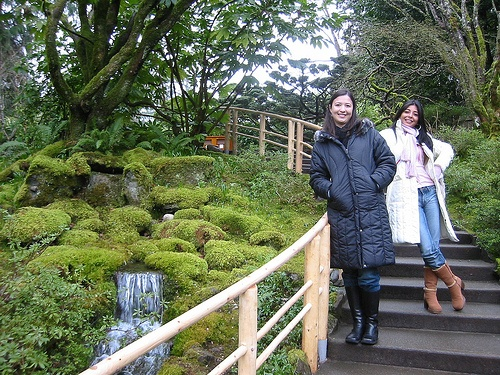head: (329, 89, 356, 122), (397, 97, 424, 130)
person: (304, 83, 396, 347), (386, 98, 469, 319)
